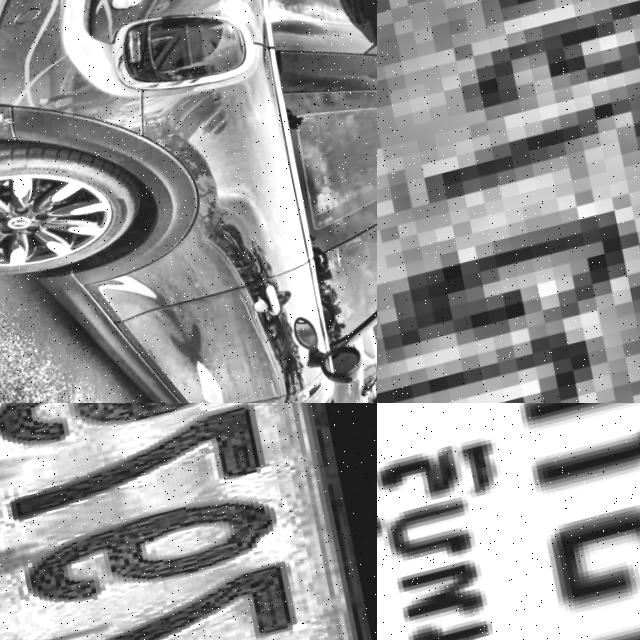license-plate: (377, 0, 640, 403), (0, 403, 377, 640), (377, 403, 640, 640)
